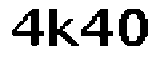0: (118, 6, 154, 49)
4: (11, 5, 46, 50), (80, 6, 117, 48)
k: (45, 5, 80, 49)
